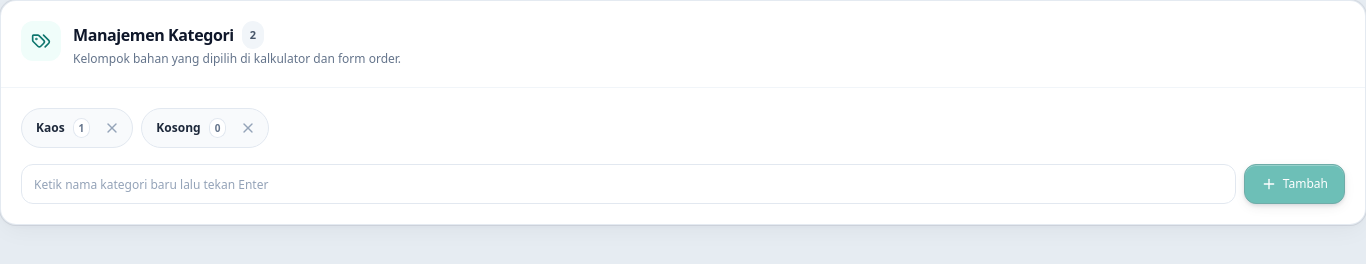
Test: KategoriSection › nama kategori yang sudah ada ditolak tanpa menulis ke Firestore
This screenshot has width=1366, height=264.
Type "kaos" into the field labelled "nama kategori baru" at (628, 184), box [21,164,1236,204]
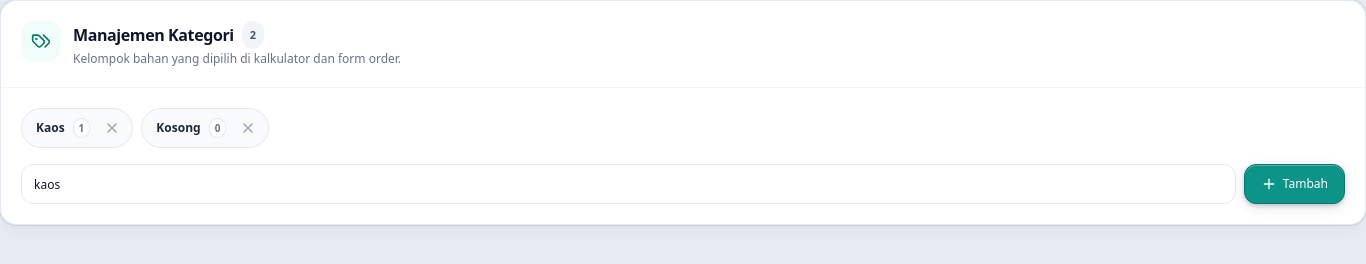
Click the button "Tambah" at (1294, 184), box [1244,164,1345,204]
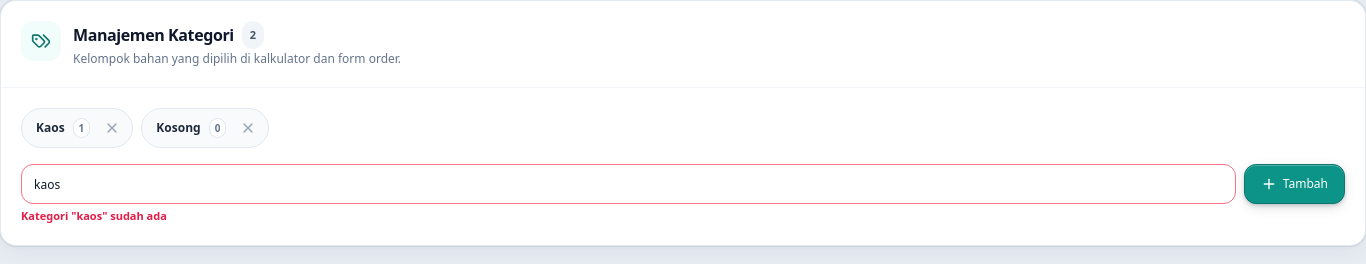
Now the message shows "sudah ada", box [21,208,167,223]
